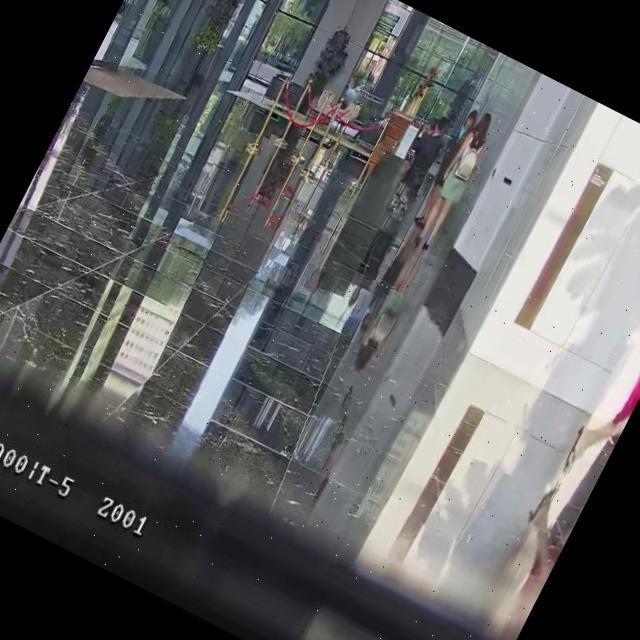person: (553, 170, 640, 494), (408, 108, 506, 260), (411, 105, 482, 228), (400, 110, 452, 180), (346, 98, 392, 153)
